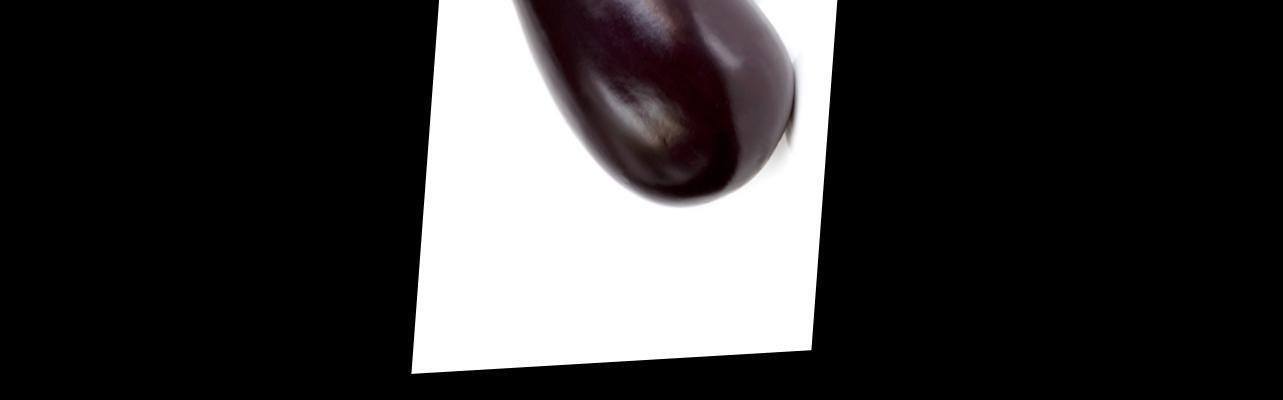eggplant: (452, 0, 813, 222)
